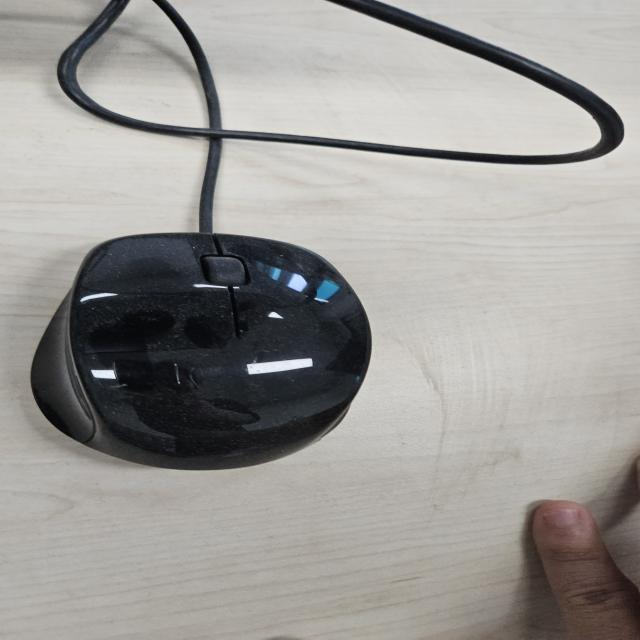Mouse: (28, 230, 375, 471)
